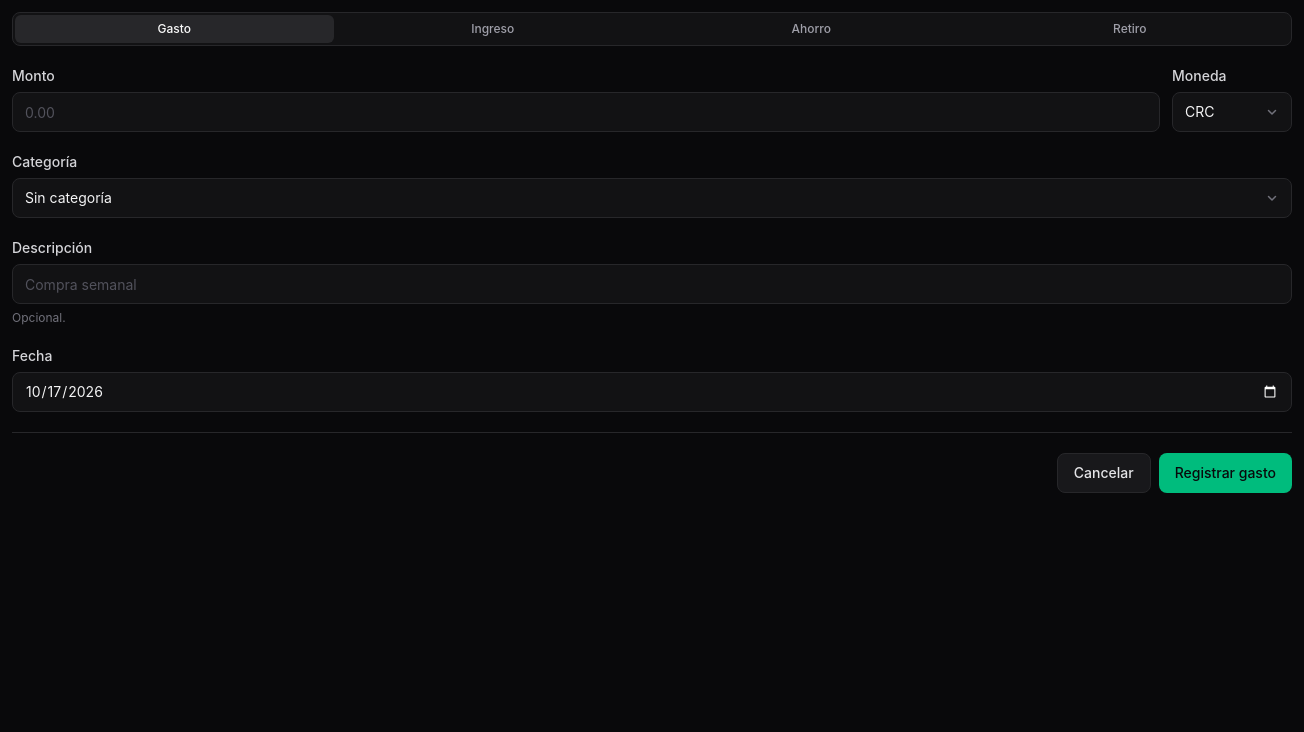
Test: TransactionForm al editar › muestra el error de la API al retirar más de lo ahorrado
Click the button "Retiro": coordinates (1130, 29) [970, 15, 1289, 43]
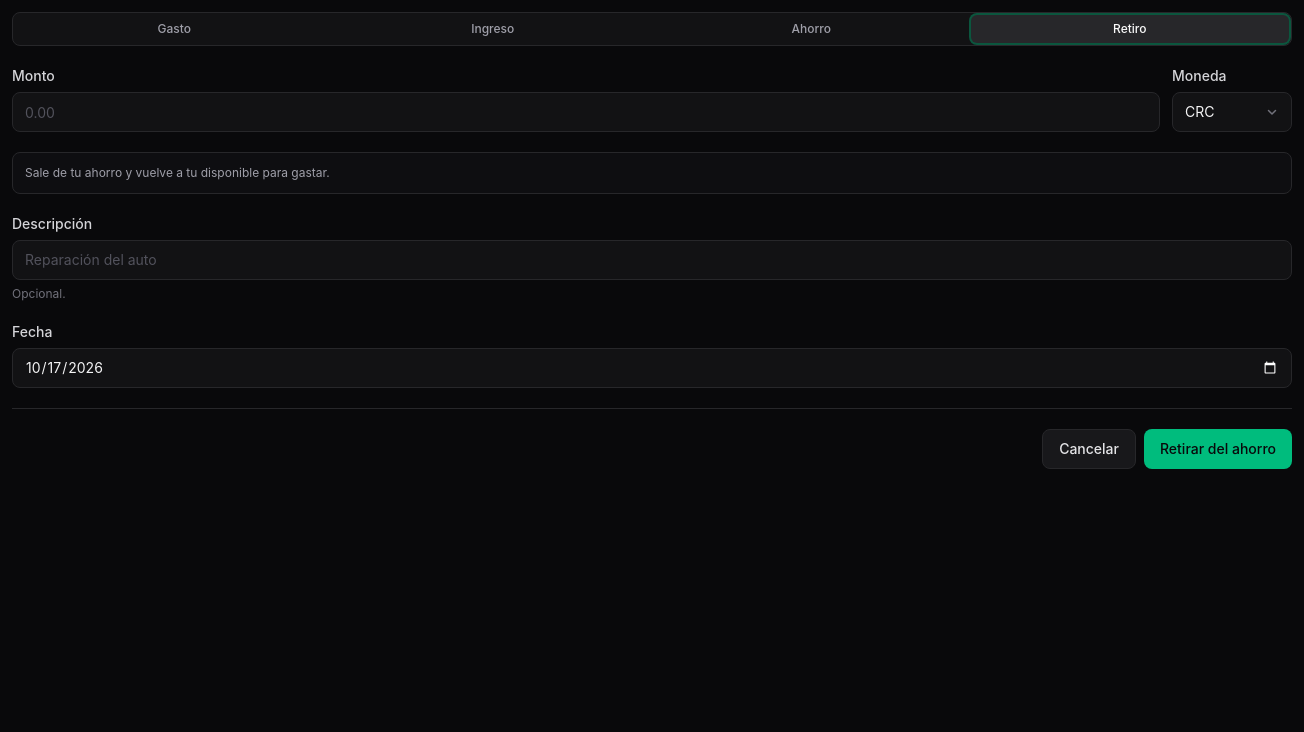
In the field labelled "Monto": coordinates (586, 112) [12, 92, 1160, 132], type "1000"
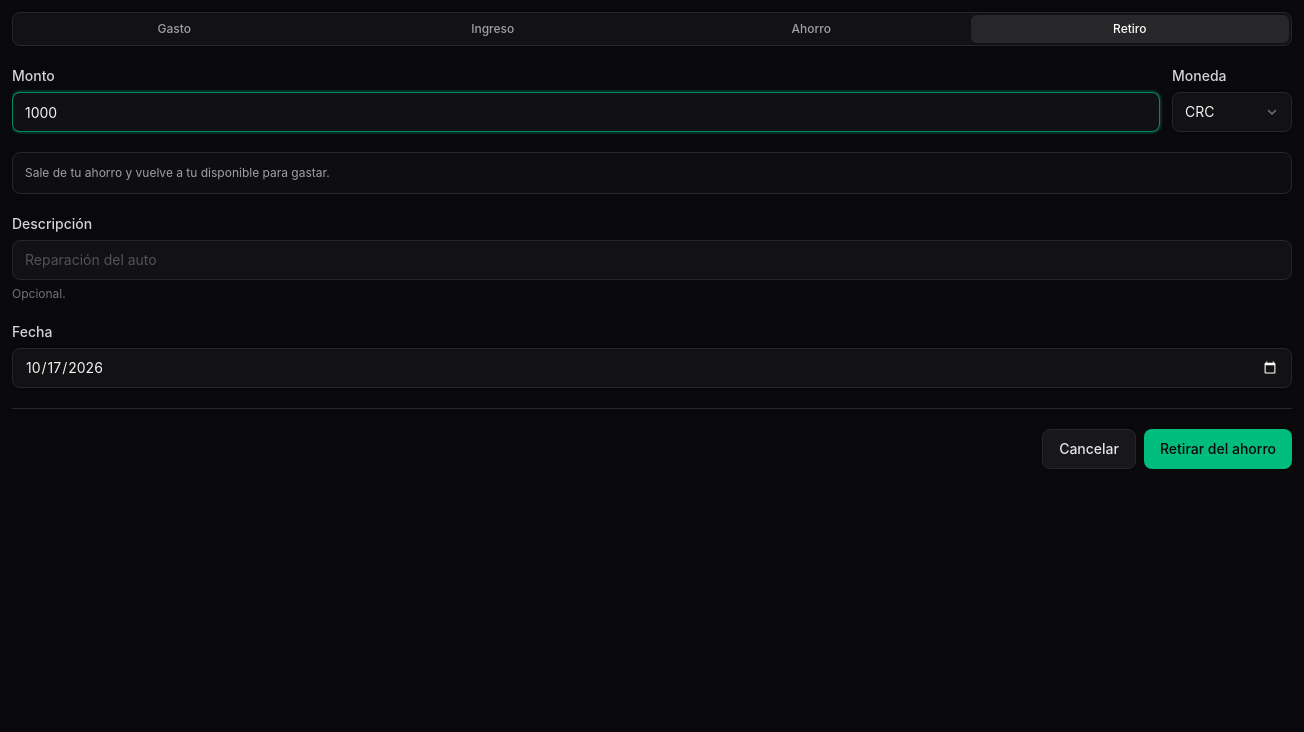
Click the button "Retirar del ahorro": coordinates (1218, 448) [1144, 428, 1292, 468]
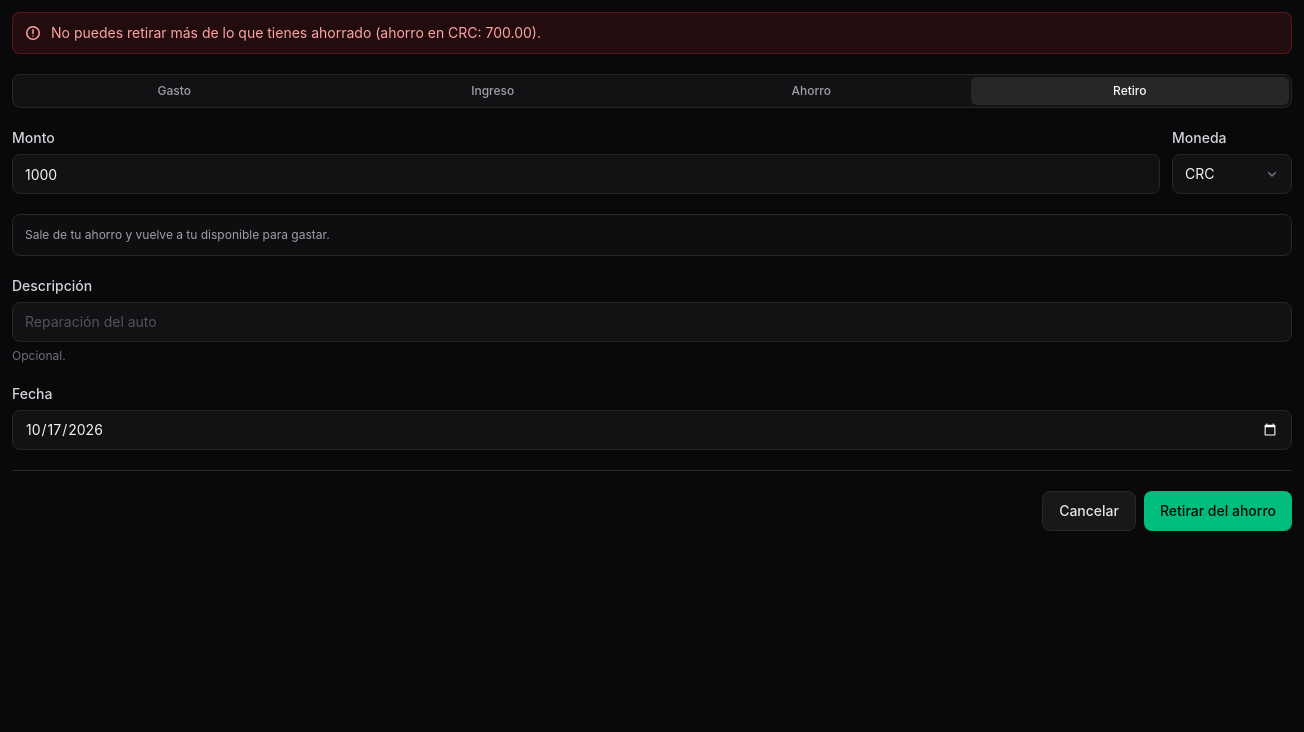
Now the message shows "No puedes retirar más de lo que tienes ahorrado", box [51, 24, 541, 41]
